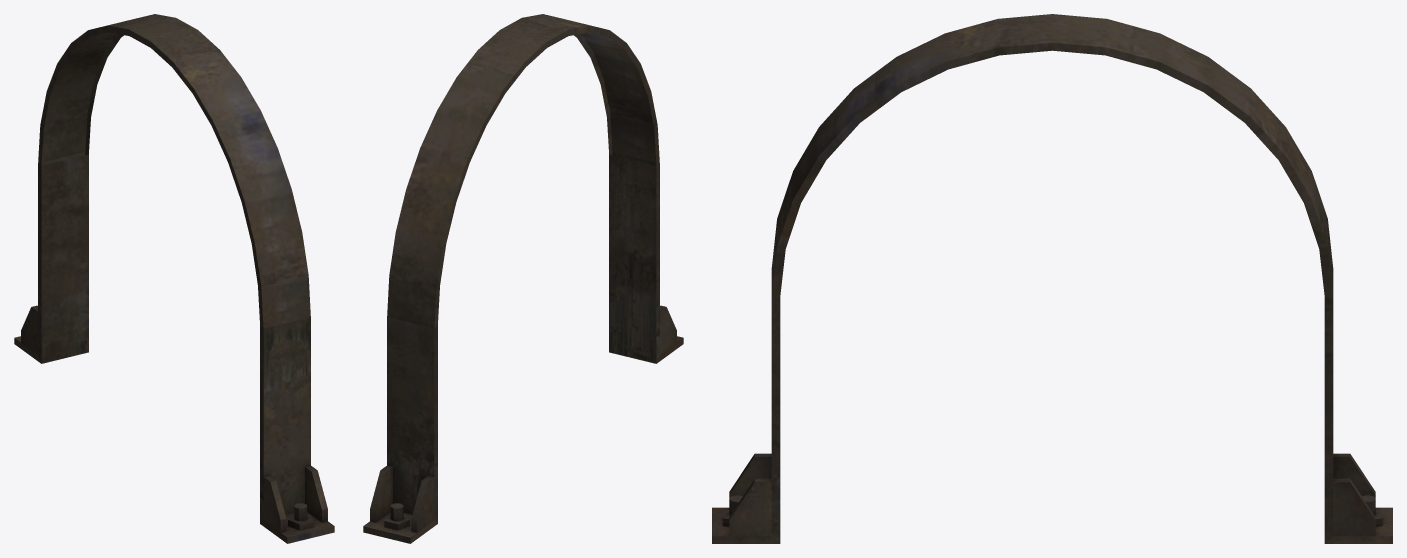
Rendered from pipe_bracket001.glb.
3 renders of one model, left to right at view 1: azimuth 30°, elevation 25°; view 2: azimuth 150°, elevation 25°; view 3: azimuth 270°, elevation 25°, orthographic. The views are drawn at different scales.
Visible parts, largest first — view 1: pipe_bracket001; view 2: pipe_bracket001; view 3: pipe_bracket001.
Boxes of the visible parts, bbox=[...] form: pipe_bracket001: bbox=[14, 14, 334, 543]; pipe_bracket001: bbox=[363, 14, 683, 543]; pipe_bracket001: bbox=[712, 14, 1392, 543].
Bounding box in the file's own units: 0.1524 × 1.24 × 1.52.
1 material, 1 textured.
